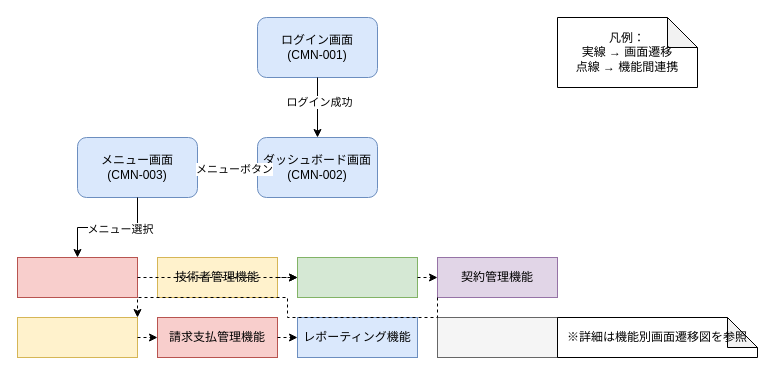
Image size: 775x375. Some labels were removed from this diagram. Each missing label, with the centre of its shape:
"システム管理機能" belongs at (497,337).
"マッチング機能" belongs at (357,277).
"勤怠工数管理機能" belongs at (77,337).
"案件管理機能" belongs at (77,277).
